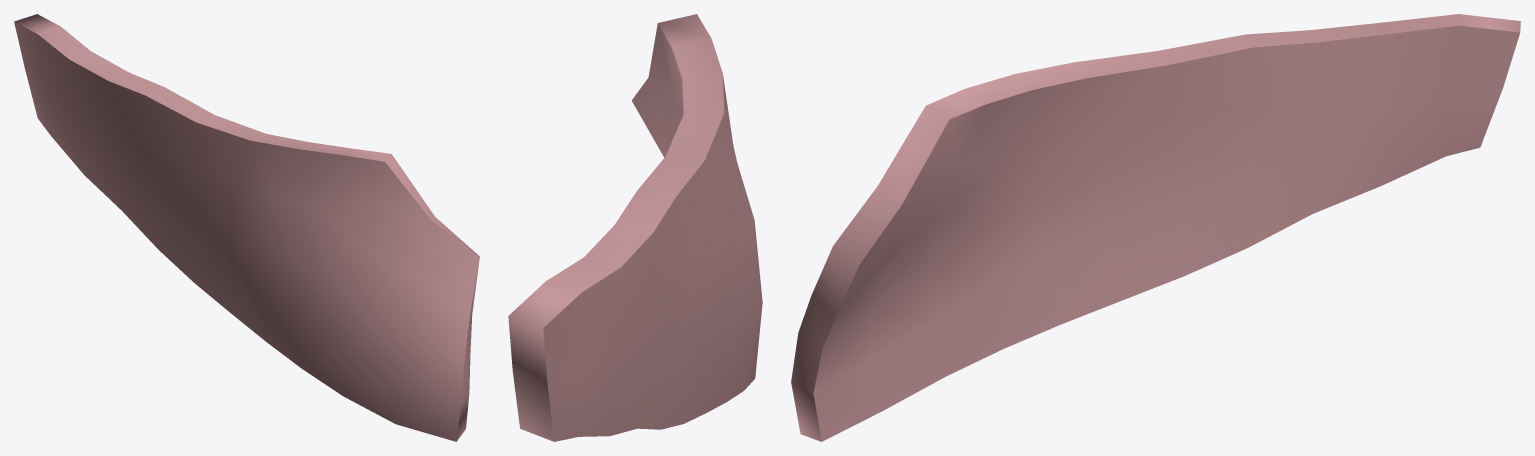
The picture shows the model from 3 angles, left to right: view 1: azimuth 30°, elevation 25°; view 2: azimuth 150°, elevation 25°; view 3: azimuth 270°, elevation 25°; orthographic projection. The views are drawn at different scales.
Parts seen in each view (by area): view 1: ZA_19458f642031b87d; view 2: ZA_19458f642031b87d; view 3: ZA_19458f642031b87d.
Boxes of the visible parts, x1,y1,x2,y2 form: ZA_19458f642031b87d: [14, 14, 479, 441]; ZA_19458f642031b87d: [508, 14, 762, 441]; ZA_19458f642031b87d: [791, 14, 1520, 441].
Size of the model in its own units: 0.0266 by 0.0319 by 0.0649.
